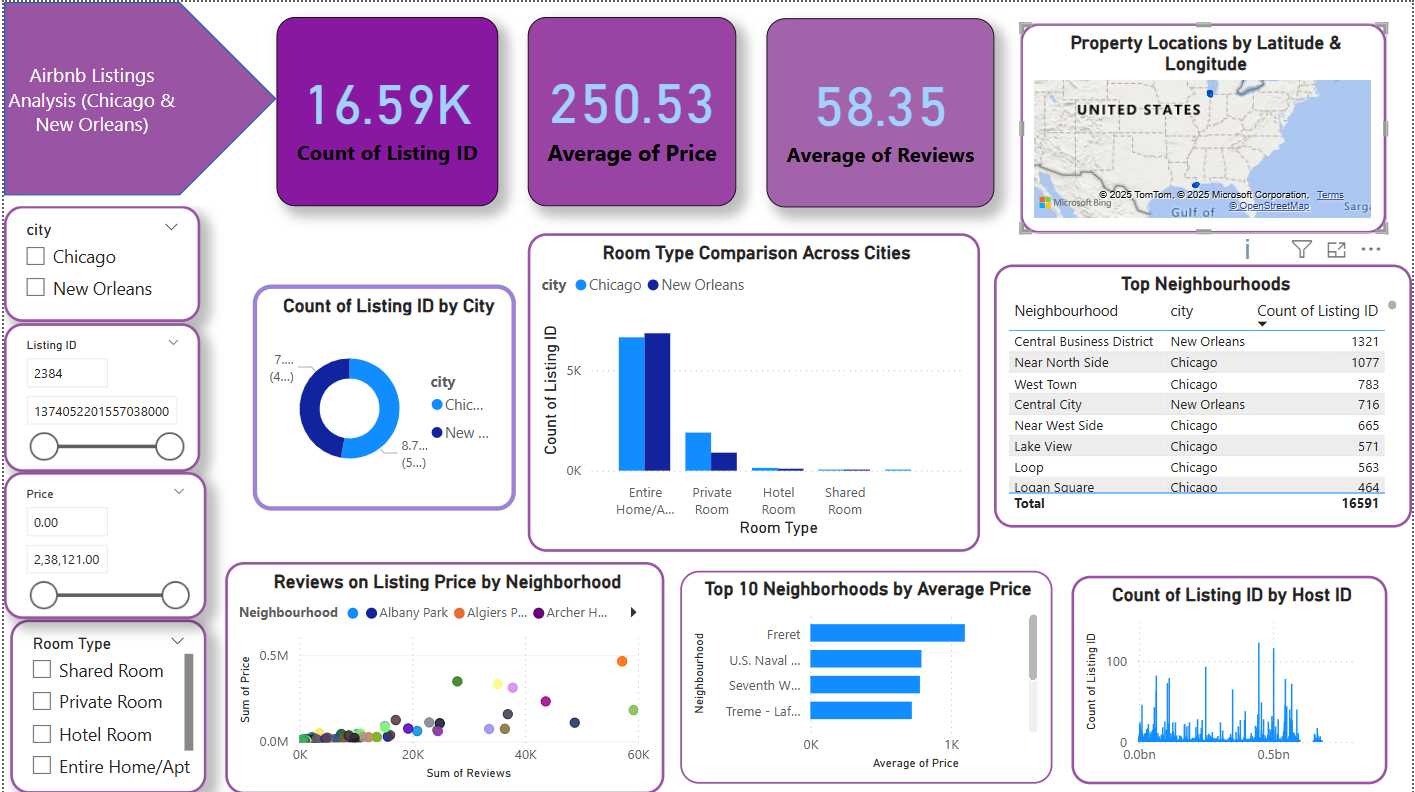

Layout of this report page (visuals, bound fields, positions):
{"tool":"powerbi","page":{"name":"Page 1","canvas":[1280,720],"ordinal":0},"visuals":[{"type":"card","fields":{"Values":["CountNonNull(merged dataset.Listing ID)"]},"box":[247.7,13.5,201.7,171.9],"z":0},{"type":"card","fields":{"Values":["Avg(merged dataset.Price)"]},"box":[476.4,13.5,189.5,171.9],"z":1000},{"type":"card","fields":{"Values":["Avg(merged dataset.Reviews)"]},"box":[692.9,14.9,207.1,171.9],"z":2000},{"type":"donutChart","title":"Count of Listing ID by City","fields":{"Category":["merged dataset.city"],"Y":["CountNonNull(merged dataset.Listing ID)"]},"box":[226,257.1,239.5,205.7],"z":3000},{"type":"map","title":"Property Locations by Latitude & Longitude","fields":{"X":["merged dataset.longitude"],"Y":["merged dataset.latitude"]},"box":[924.3,18.9,332.9,190.8],"z":4000},{"type":"clusteredColumnChart","title":"Room Type Comparison Across Cities","fields":{"Category":["merged dataset.Room Type"],"Y":["CountNonNull(merged dataset.Listing ID)"],"Series":["merged dataset.city"]},"box":[476.4,209.8,411.4,289.6],"z":5000},{"type":"tableEx","title":"Top Neighbourhoods","fields":{"Values":["merged dataset.Neighbourhood","merged dataset.city","CountNonNull(merged dataset.Listing ID)"]},"box":[900,238.2,380.3,239.5],"z":6000},{"type":"scatterChart","title":"Reviews on Listing Price by Neighborhood","fields":{"X":["Sum(merged dataset.Reviews)"],"Y":["Sum(merged dataset.Price)"],"Series":["merged dataset.Neighbourhood"]},"box":[201.7,508.9,399.2,211.1],"z":7000},{"type":"slicer","title":"City","fields":{"Values":["merged dataset.city"]},"box":[0,185.4,178.6,105.6],"z":8000},{"type":"barChart","title":"Top 10 Neighborhoods by Average Price","fields":{"Category":["merged dataset.Neighbourhood"],"Y":["Avg(merged dataset.Price)"]},"box":[614.4,517,338.3,193.5],"z":9000},{"type":"textbox","box":[0,35,184,150],"z":10000},{"type":"shape","title":"Airbnb Listings Analysis (Chicago & New Orleans)","box":[0,0,247.7,175.9],"z":11000},{"type":"slicer","fields":{"Values":["merged dataset.Room Type"]},"box":[5.4,561.6,178.6,158.3],"z":12000},{"type":"slicer","fields":{"Values":["merged dataset.Listing ID"]},"box":[0,292.3,178.6,135.3],"z":13000},{"type":"slicer","fields":{"Values":["merged dataset.Price"]},"box":[0,427.7,184.1,134],"z":14000},{"type":"lineStackedColumnComboChart","fields":{"Category":["merged dataset.Host ID"],"Y":["CountNonNull(merged dataset.Listing ID)"]},"box":[970.4,521,286.9,189.5],"z":15000}]}

Visuals, with their boxes in screenshot pixels (x1, y1, x2, y2), scaled from the page's 1280x720 canvas onto the 1415x792 screenshot:
card - CountNonNull(merged dataset.Listing ID): locate(274, 15, 497, 204)
card - Avg(merged dataset.Price): locate(527, 15, 736, 204)
card - Avg(merged dataset.Reviews): locate(766, 16, 995, 205)
"Count of Listing ID by City" donutChart: locate(250, 283, 515, 509)
"Property Locations by Latitude & Longitude" map: locate(1022, 21, 1390, 231)
"Room Type Comparison Across Cities" clusteredColumnChart: locate(527, 231, 981, 549)
"Top Neighbourhoods" tableEx: locate(995, 262, 1414, 525)
"Reviews on Listing Price by Neighborhood" scatterChart: locate(223, 560, 664, 791)
"City" slicer: locate(0, 204, 197, 320)
"Top 10 Neighborhoods by Average Price" barChart: locate(679, 569, 1053, 782)
textbox: locate(0, 38, 203, 204)
"Airbnb Listings Analysis (Chicago & New Orleans)" shape: locate(0, 0, 274, 193)
slicer - merged dataset.Room Type: locate(6, 618, 203, 791)
slicer - merged dataset.Listing ID: locate(0, 322, 197, 470)
slicer - merged dataset.Price: locate(0, 470, 204, 618)
lineStackedColumnComboChart - merged dataset.Host ID x CountNonNull(merged dataset.Listing ID): locate(1073, 573, 1390, 782)
